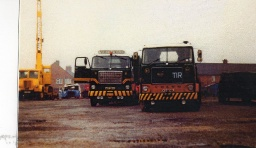truck: (138, 44, 203, 112), (73, 48, 138, 104)
